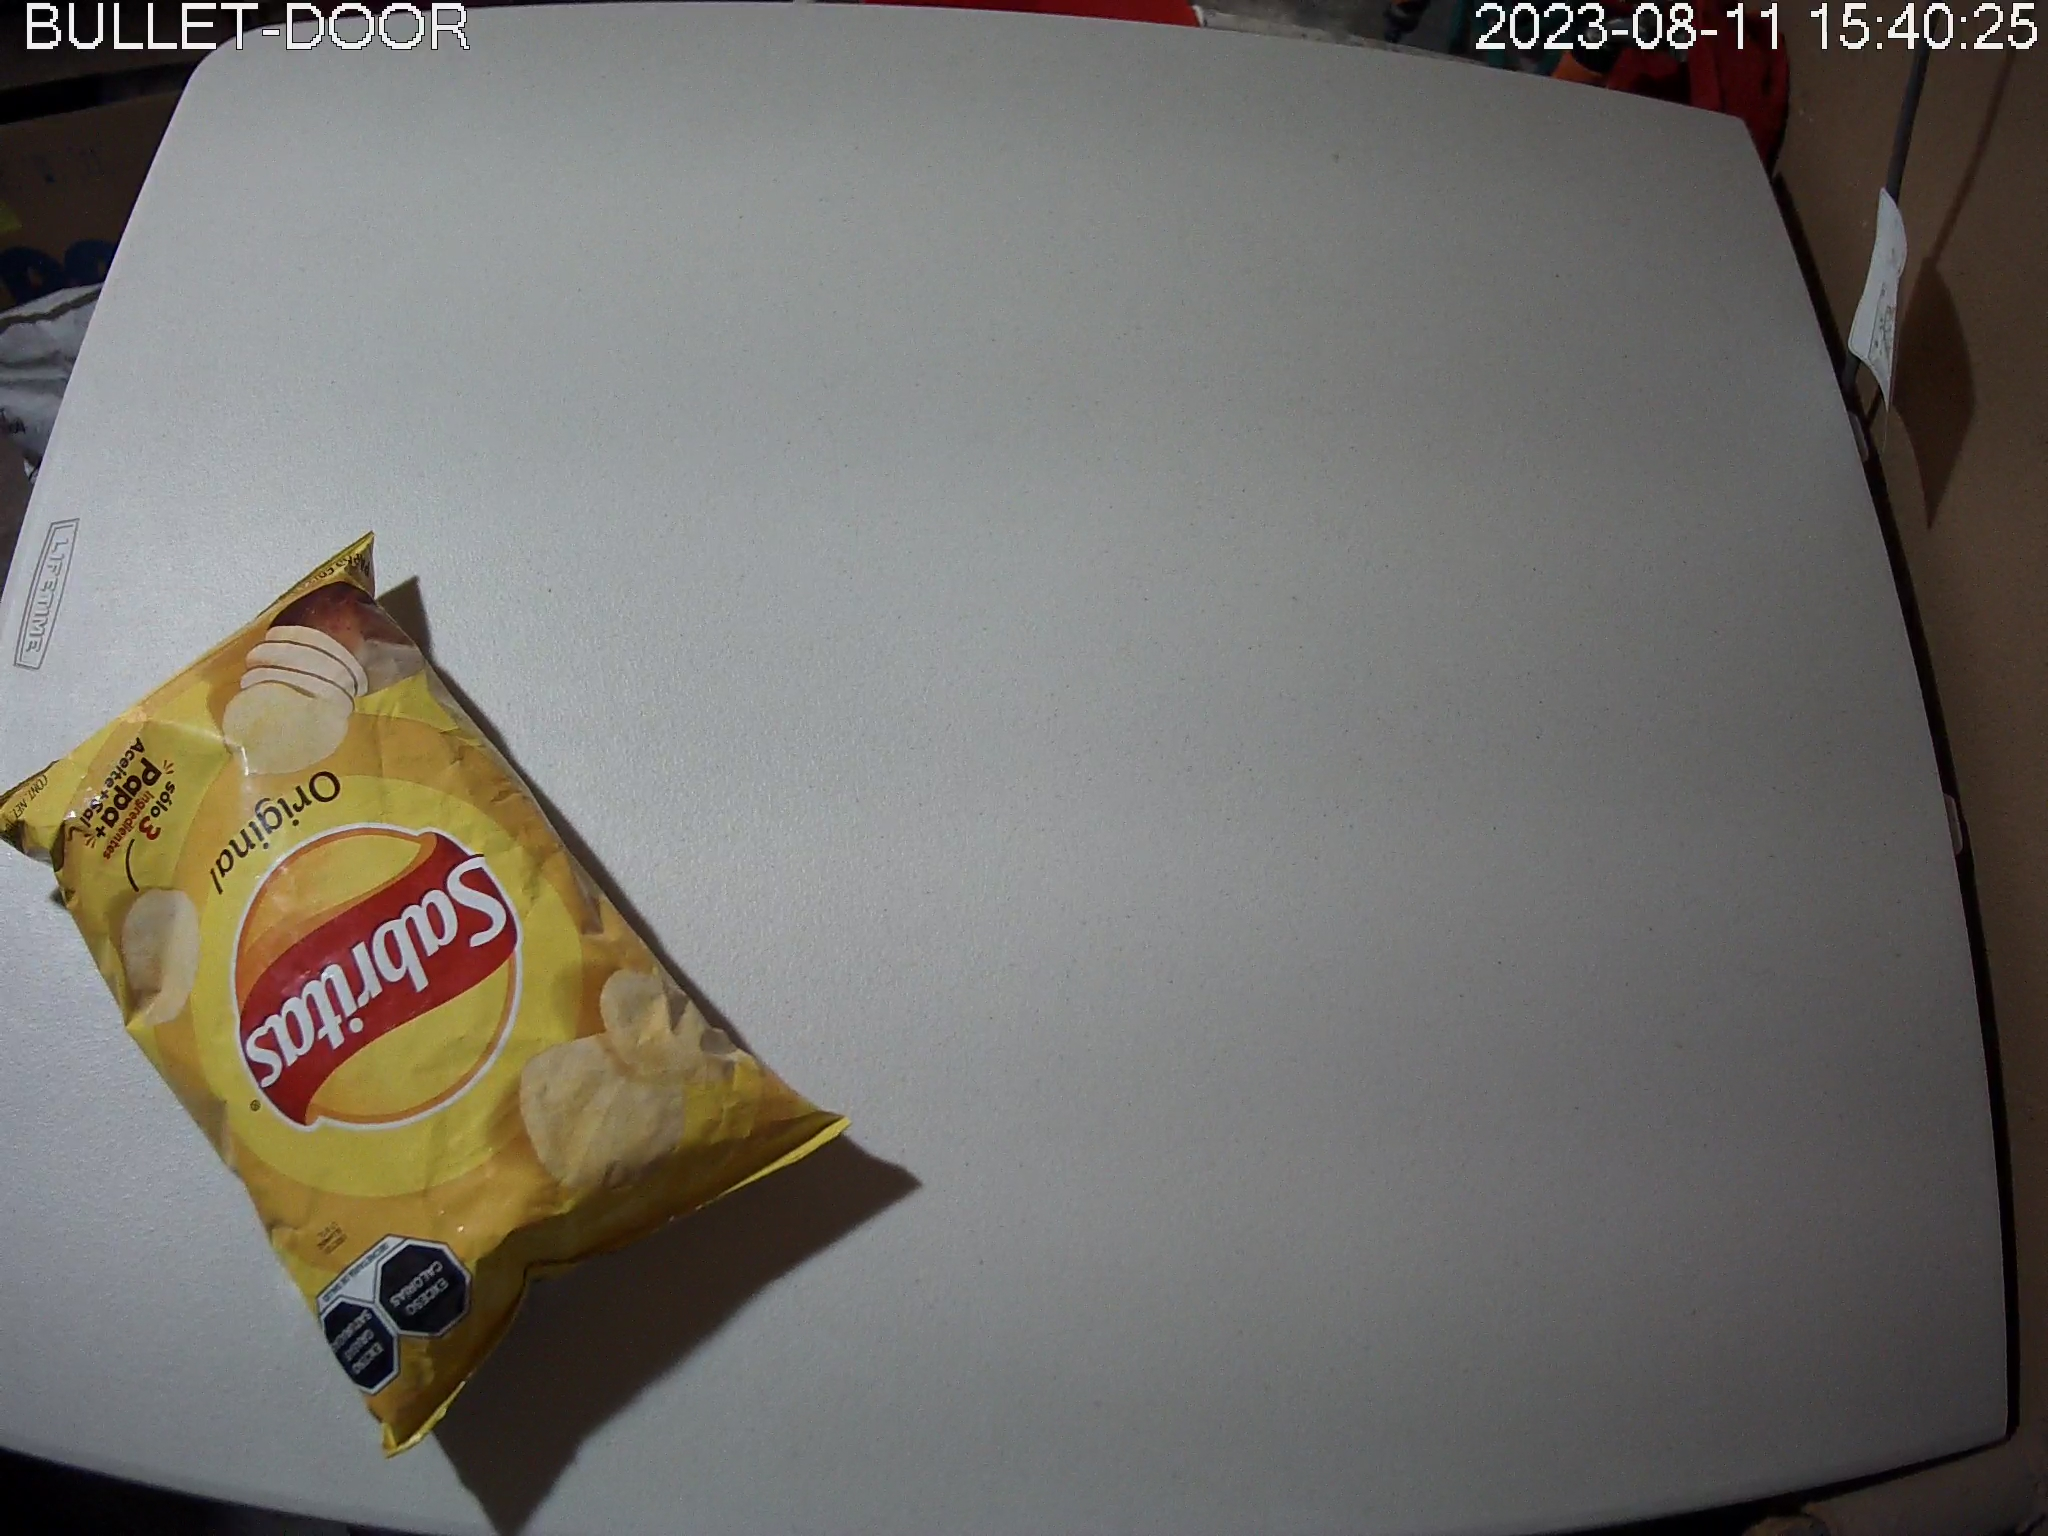Sabritas_160_F: (3, 529, 853, 1465)
